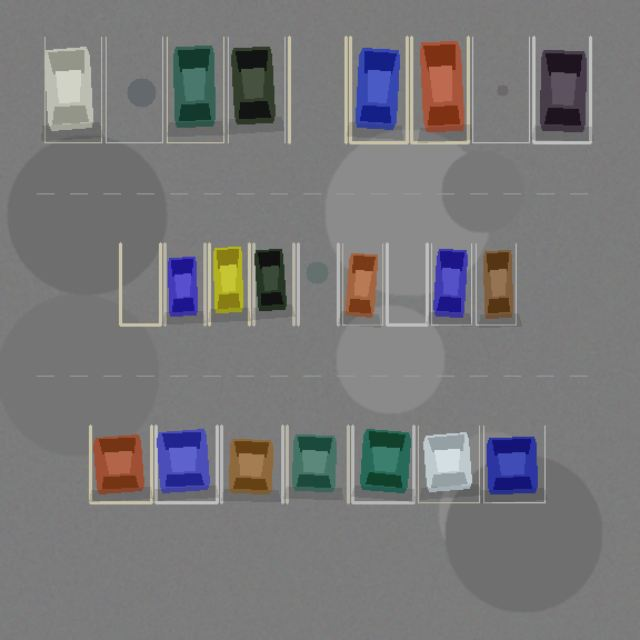space-empty: (289, 37, 346, 142), (472, 37, 529, 142), (106, 37, 162, 142), (120, 243, 160, 324), (298, 243, 338, 324), (387, 243, 427, 324)
space-occupied: (44, 37, 101, 142), (350, 37, 407, 142), (411, 37, 468, 142), (533, 37, 590, 142), (167, 37, 223, 142), (228, 37, 284, 142), (90, 426, 151, 502), (156, 426, 217, 502), (221, 426, 282, 502), (287, 426, 348, 502), (352, 426, 413, 502), (418, 426, 479, 502), (483, 426, 544, 502), (164, 243, 204, 324), (209, 243, 249, 324), (253, 243, 293, 324), (342, 243, 382, 324), (431, 243, 471, 324), (476, 243, 516, 324)
